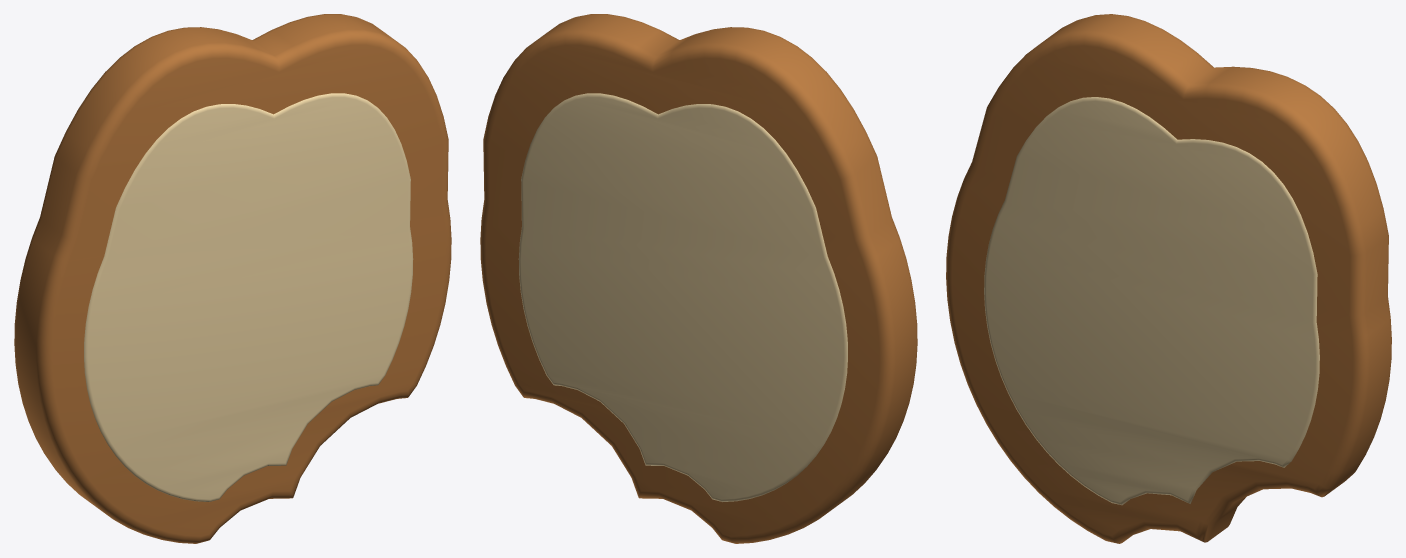
Rendered from toast_bitten.glb.
The picture shows the model from 3 angles, left to right: view 1: azimuth 30°, elevation 25°; view 2: azimuth 150°, elevation 25°; view 3: azimuth 330°, elevation 25°; orthographic projection.
Visible parts, largest first — view 1: SliceFace, Slice; view 2: SliceFace, Slice; view 3: SliceFace, Slice.
Boxes of the visible parts, <box> form: SliceFace: <box>84,93,413,501</box>; Slice: <box>14,14,451,543</box>; SliceFace: <box>518,93,847,501</box>; Slice: <box>480,14,917,543</box>; SliceFace: <box>984,97,1319,505</box>; Slice: <box>946,14,1391,543</box>.
Bounding box in the file's own units: 0.2004 × 0.2301 × 0.0286.
